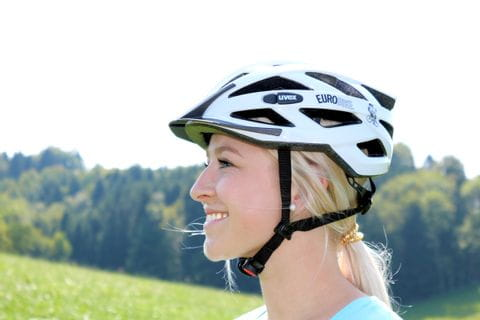helmet: (168, 62, 397, 262)
